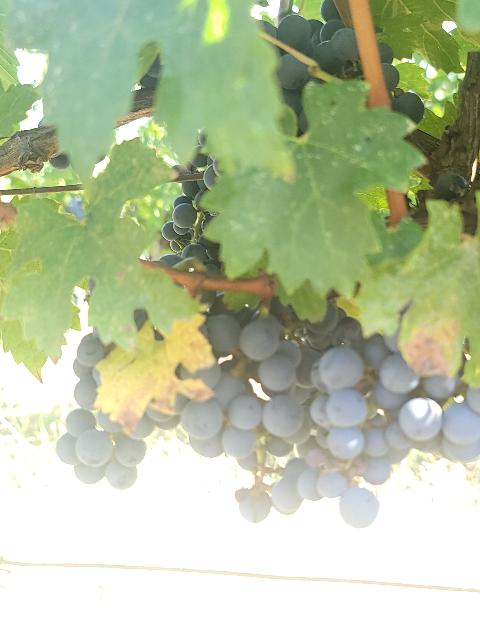grapes: (180, 310, 480, 528), (56, 331, 180, 489)
